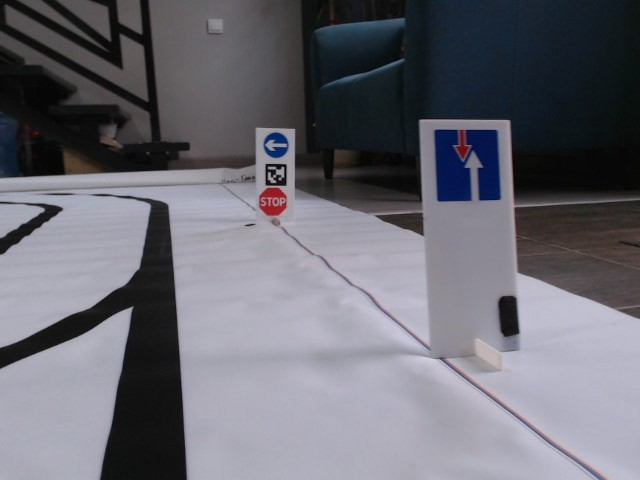Stop: (259, 185, 287, 217)
priority_movement: (433, 127, 503, 203)
